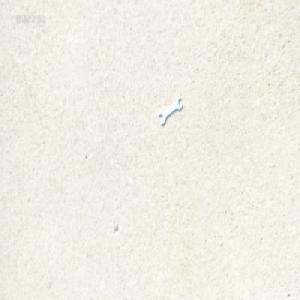Wrench: (158, 97, 182, 127)
